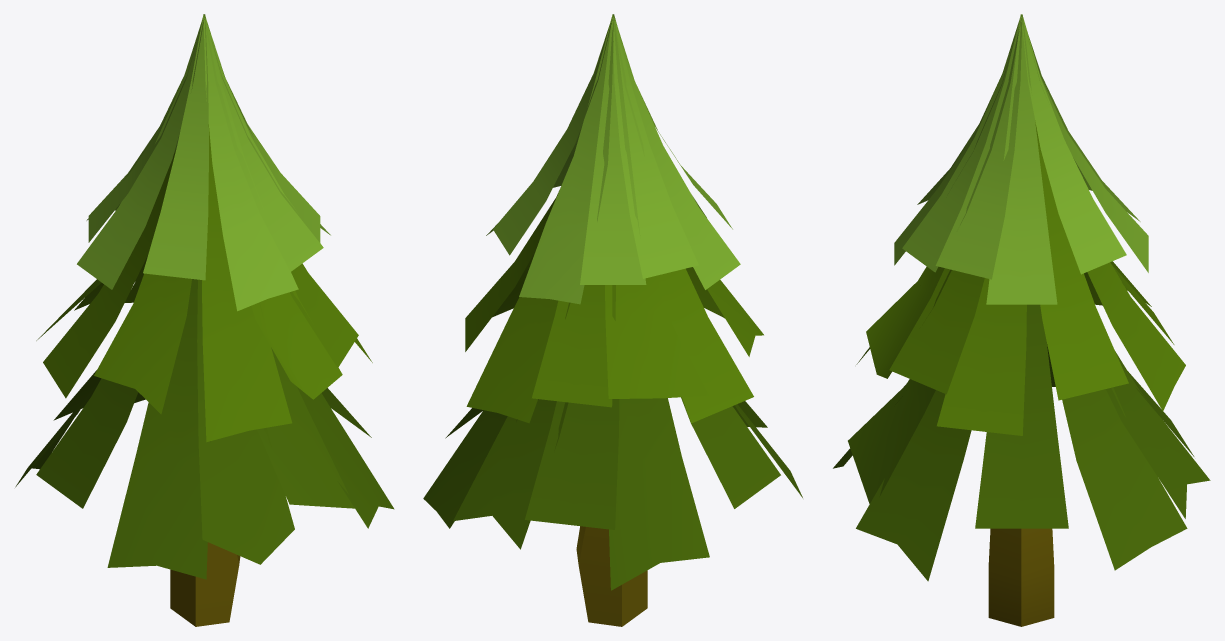
The model's file is Tannenbaum_2_v001 (1).fbx.
The picture shows the model from 3 angles, left to right: view 1: azimuth 30°, elevation 25°; view 2: azimuth 150°, elevation 25°; view 3: azimuth 270°, elevation 25°; orthographic projection.
Parts seen in each view (by area): view 1: pPlane8 (×2), pPlane7 (×2), pPlane10 (×2), pPlane6 (×2), pPlane9 (×2), long_plane_2, middle_plane_1, long_plane_1, middle_plane_2, pCylinder2, short_plane_1; view 2: pPlane6 (×2), pPlane9 (×2), pPlane7 (×2), pPlane8 (×2), pPlane10 (×2), long_plane_2, middle_plane_2, short_plane_1, long_plane_1, pCylinder2, middle_plane_1; view 3: pPlane10 (×2), pPlane6 (×2), pPlane8 (×2), pPlane9 (×2), long_plane_1, pPlane7 (×2), short_plane_1, middle_plane_1, pCylinder2, middle_plane_2, long_plane_2.
Part boxes in pixels (left/top/right/bottom): pPlane8 (×2): left=107, top=124, right=292, bottom=579; pPlane7 (×2): left=74, top=150, right=342, bottom=564; pPlane10 (×2): left=36, top=273, right=371, bottom=508; pPlane6 (×2): left=15, top=149, right=394, bottom=528; pPlane9 (×2): left=36, top=155, right=358, bottom=508; long_plane_2: left=115, top=14, right=298, bottom=311; middle_plane_1: left=143, top=14, right=208, bottom=280; long_plane_1: left=77, top=14, right=330, bottom=289; middle_plane_2: left=86, top=15, right=323, bottom=271; pCylinder2: left=170, top=542, right=240, bottom=626; short_plane_1: left=88, top=27, right=320, bottom=242; pPlane6 (×2): left=492, top=251, right=753, bottom=590; pPlane9 (×2): left=525, top=275, right=708, bottom=529; pPlane7 (×2): left=453, top=285, right=767, bottom=549; pPlane8 (×2): left=423, top=267, right=802, bottom=528; pPlane10 (×2): left=445, top=190, right=780, bottom=508; long_plane_2: left=519, top=14, right=706, bottom=304; middle_plane_2: left=580, top=16, right=646, bottom=284; short_plane_1: left=553, top=14, right=698, bottom=278; long_plane_1: left=486, top=15, right=740, bottom=289; pCylinder2: left=576, top=526, right=647, bottom=626; middle_plane_1: left=493, top=14, right=732, bottom=255; pPlane10 (×2): left=975, top=120, right=1128, bottom=528; pPlane6 (×2): left=856, top=272, right=1102, bottom=581; pPlane8 (×2): left=856, top=124, right=1187, bottom=570; pPlane9 (×2): left=848, top=261, right=1194, bottom=503; long_plane_1: left=986, top=14, right=1057, bottom=304; pPlane7 (×2): left=833, top=265, right=1210, bottom=518; short_plane_1: left=935, top=15, right=1092, bottom=279; middle_plane_1: left=917, top=14, right=1126, bottom=274; pCylinder2: left=988, top=528, right=1054, bottom=626; middle_plane_2: left=902, top=15, right=1140, bottom=272; long_plane_2: left=894, top=15, right=1148, bottom=272.
Bounding box in the file's own units: 151 × 296 × 169.
